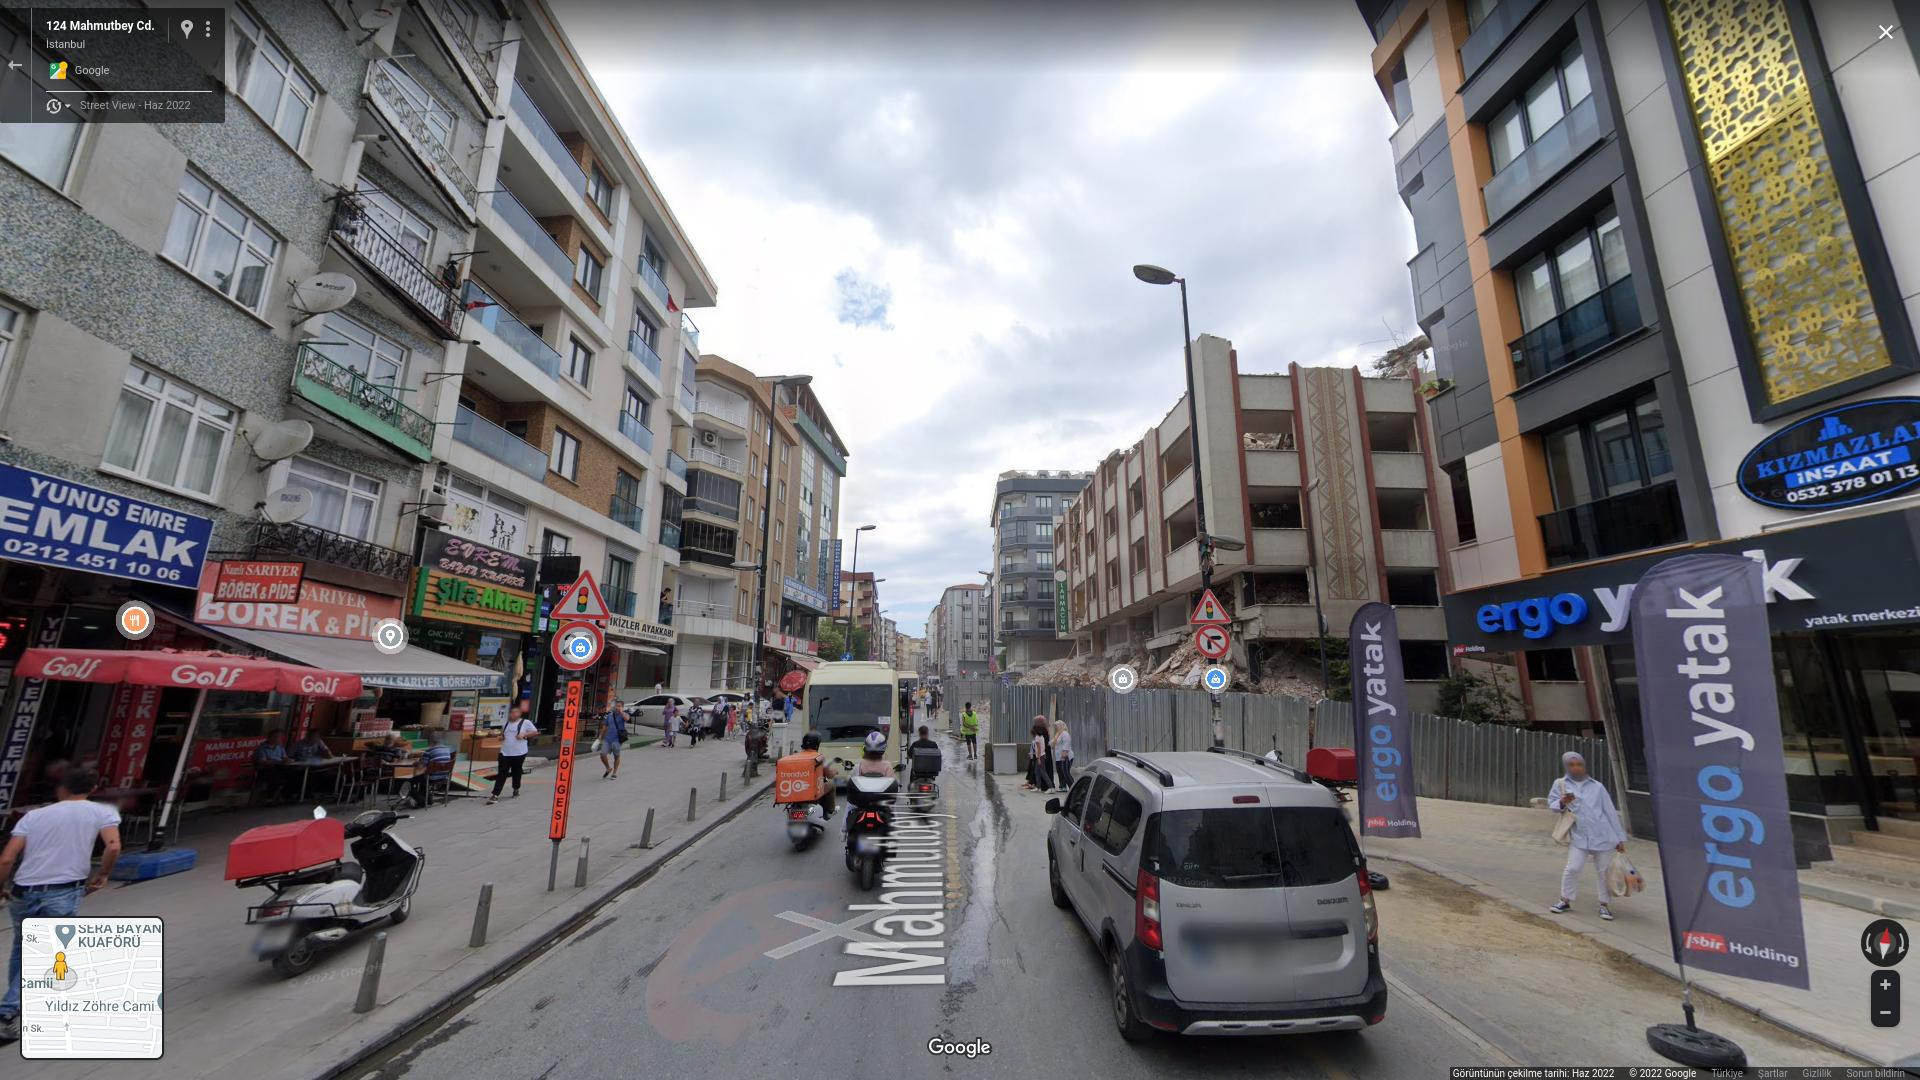rightturnsareforbidden: (1196, 626, 1229, 657)
